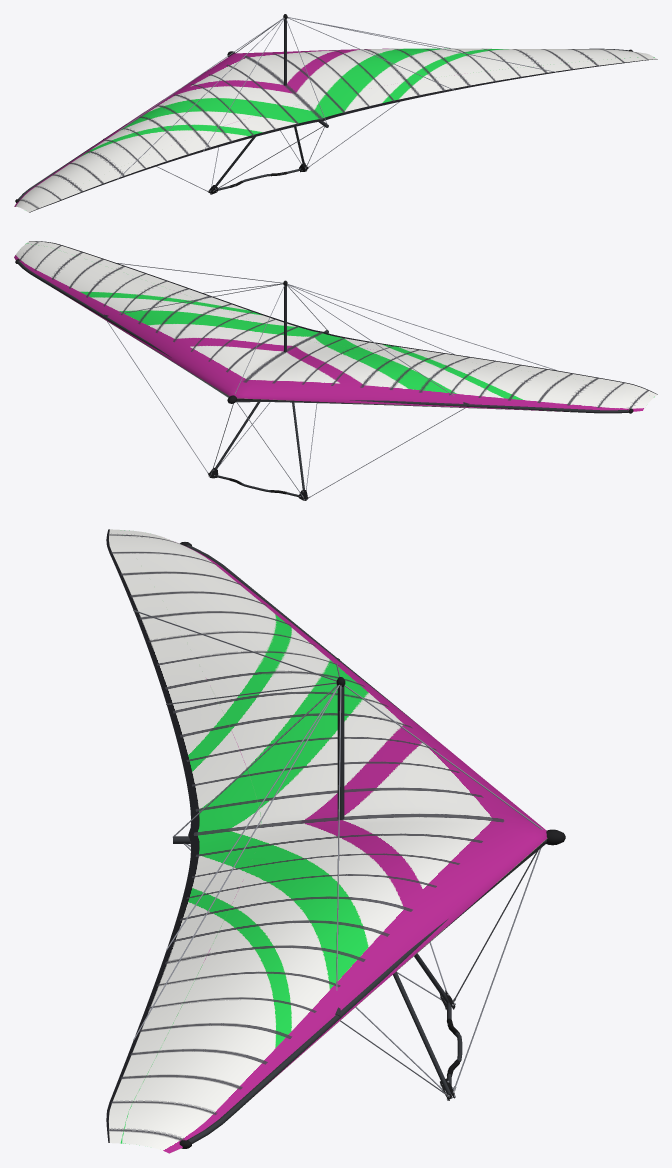
File: glider_moyes_litesport.glb
3 views of the same model, one above another, from view 1: azimuth 30°, elevation 25°; view 2: azimuth 150°, elevation 25°; view 3: azimuth 270°, elevation 25° (orthographic). The views are drawn at different scales.
Parts seen in each view (by area): view 1: Sail, Frame, ControlFrame; view 2: Sail, Frame, ControlFrame; view 3: Sail, Frame, ControlFrame.
Part boxes in pixels (x1,y1,x2,y2): Sail: [14, 48, 657, 212]; Frame: [15, 14, 632, 202]; ControlFrame: [156, 102, 399, 194]; Sail: [14, 241, 657, 412]; Frame: [15, 259, 633, 413]; ControlFrame: [107, 321, 465, 500]; Sail: [106, 529, 547, 1153]; Frame: [133, 542, 565, 1148]; ControlFrame: [183, 843, 541, 1100].
Size of the model in its own units: 9.6 by 2.76 by 3.04.
Materials: 8 (1 with a texture image).
